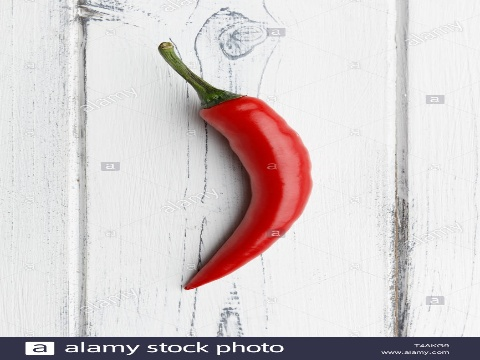Chilli: (143, 35, 325, 303)
